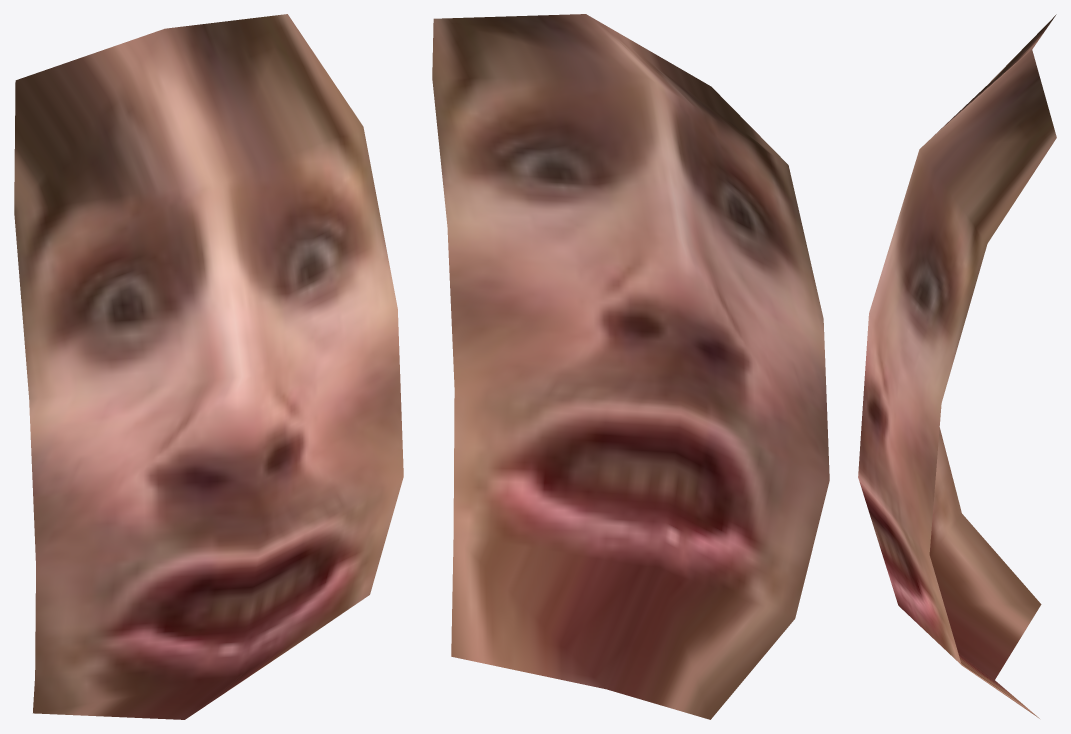
3 views of the same model, side by side, from view 1: azimuth 30°, elevation 25°; view 2: azimuth 150°, elevation 25°; view 3: azimuth 270°, elevation 25° (orthographic). The views are drawn at different scales.
Visible parts, largest first — view 1: TestNCP1.007; view 2: TestNCP1.007; view 3: TestNCP1.007.
Part boxes in pixels (x1,y1,x2,y2): TestNCP1.007: (14,14,403,719); TestNCP1.007: (432,14,829,719); TestNCP1.007: (858,14,1056,718).
Bounding box in the file's own units: 14.24 × 24.97 × 7.14.
Materials: 1 (1 with a texture image).
